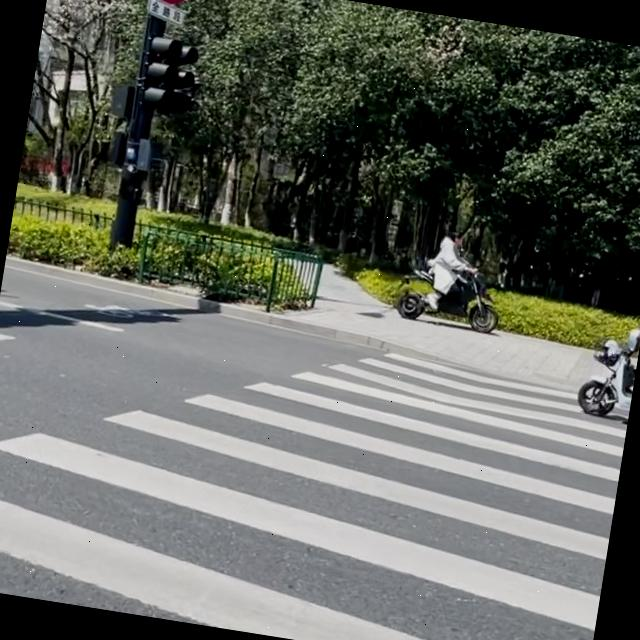curb: (5, 255, 437, 361)
